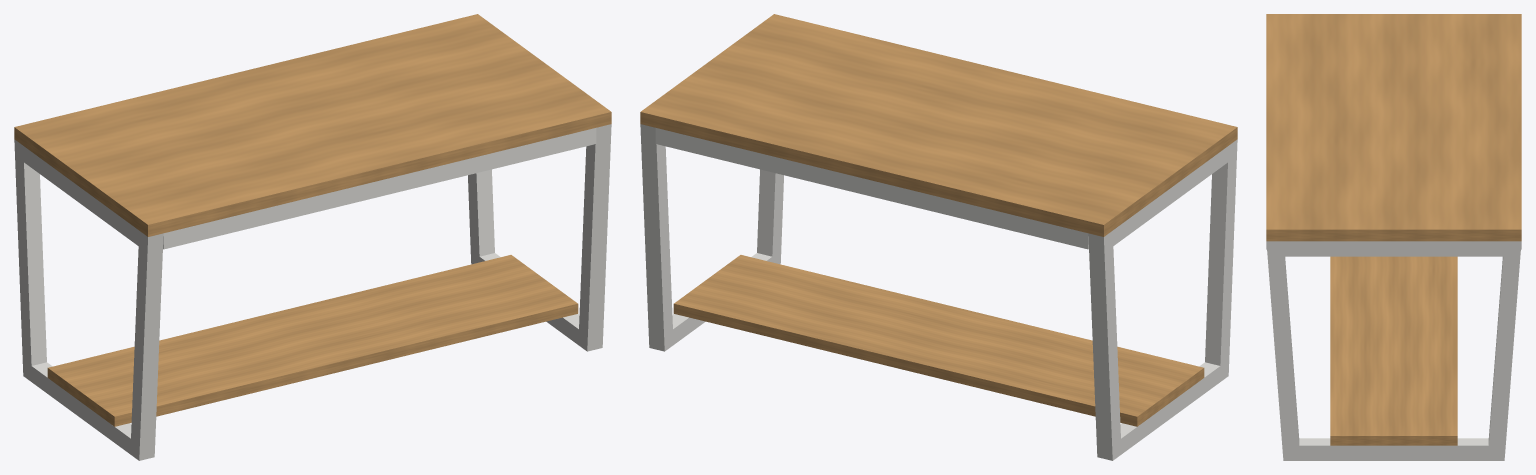
The model's file is mesa-living-nord-estante-miel-blanco-4cm.glb.
3 views of the same model, side by side, from view 1: azimuth 30°, elevation 25°; view 2: azimuth 150°, elevation 25°; view 3: azimuth 270°, elevation 25° (orthographic). The views are drawn at different scales.
Parts seen in each view (by area): view 1: Tapa de madera maciza 120 x 60 x 3 cm, Estante inferior de madera de 120 cm (proporción aproximada), Patas inclinadas con cortes a inglete, Larguero longitudinal superior de hierro 4 x 4 mm, Travesaño inferior del trapecio, perfil 4 cm (×2), Travesaño superior del trapecio, perfil 4 cm; view 2: Tapa de madera maciza 120 x 60 x 3 cm, Estante inferior de madera de 120 cm (proporción aproximada), Patas inclinadas con cortes a inglete, Larguero longitudinal superior de hierro 4 x 4 mm, Travesaño inferior del trapecio, perfil 4 cm (×2), Travesaño superior del trapecio, perfil 4 cm; view 3: Tapa de madera maciza 120 x 60 x 3 cm, Estante inferior de madera de 120 cm (proporción aproximada), Patas inclinadas con cortes a inglete, Travesaño superior del trapecio, perfil 4 cm, Travesaño inferior del trapecio, perfil 4 cm.
Boxes of the visible parts, left/top/right/bottom form: Tapa de madera maciza 120 x 60 x 3 cm: left=14, top=14, right=611, bottom=236; Estante inferior de madera de 120 cm (proporción aproximada): left=47, top=255, right=578, bottom=426; Patas inclinadas con cortes a inglete: left=14, top=124, right=611, bottom=460; Larguero longitudinal superior de hierro 4 x 4 mm: left=163, top=128, right=596, bottom=249; Travesaño inferior del trapecio, perfil 4 cm (×2): left=31, top=253, right=582, bottom=453; Travesaño superior del trapecio, perfil 4 cm: left=23, top=146, right=142, bottom=246; Tapa de madera maciza 120 x 60 x 3 cm: left=640, top=14, right=1237, bottom=236; Estante inferior de madera de 120 cm (proporción aproximada): left=673, top=255, right=1204, bottom=426; Patas inclinadas con cortes a inglete: left=640, top=124, right=1237, bottom=460; Larguero longitudinal superior de hierro 4 x 4 mm: left=655, top=128, right=1088, bottom=249; Travesaño inferior del trapecio, perfil 4 cm (×2): left=669, top=253, right=1224, bottom=453; Travesaño superior del trapecio, perfil 4 cm: left=1108, top=146, right=1228, bottom=249; Tapa de madera maciza 120 x 60 x 3 cm: left=1266, top=14, right=1521, bottom=241; Estante inferior de madera de 120 cm (proporción aproximada): left=1330, top=256, right=1457, bottom=445; Patas inclinadas con cortes a inglete: left=1266, top=241, right=1521, bottom=460; Travesaño superior del trapecio, perfil 4 cm: left=1275, top=241, right=1512, bottom=256; Travesaño inferior del trapecio, perfil 4 cm: left=1292, top=438, right=1495, bottom=460.
Size of the model in its own units: 1.2 by 0.6 by 0.6.
Materials: 2 (1 with a texture image).
